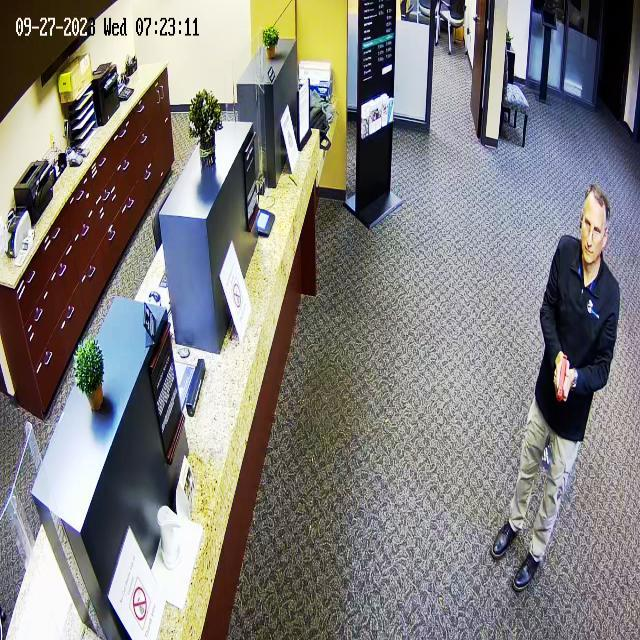Gun: (545, 346, 580, 405)
